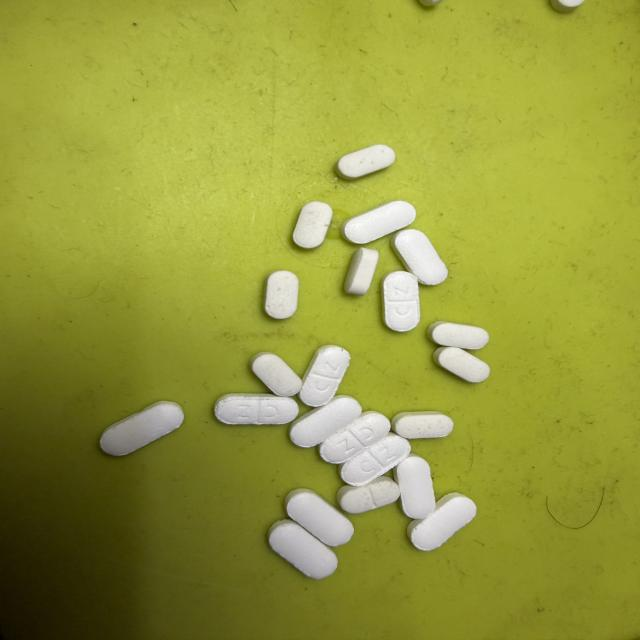pill: (100, 401, 183, 455), (268, 520, 337, 579), (408, 493, 476, 550), (285, 489, 353, 546), (320, 411, 390, 463), (290, 396, 361, 447), (340, 435, 410, 486), (342, 201, 416, 244), (392, 230, 448, 285), (299, 346, 350, 406), (394, 454, 435, 518), (215, 394, 299, 424), (337, 476, 399, 513), (382, 271, 420, 331), (251, 353, 302, 396), (337, 145, 395, 179), (434, 347, 490, 382), (293, 202, 332, 248), (392, 411, 453, 439), (428, 322, 489, 349), (265, 271, 298, 319), (345, 248, 378, 295), (551, 0, 583, 12), (420, 0, 441, 6)
